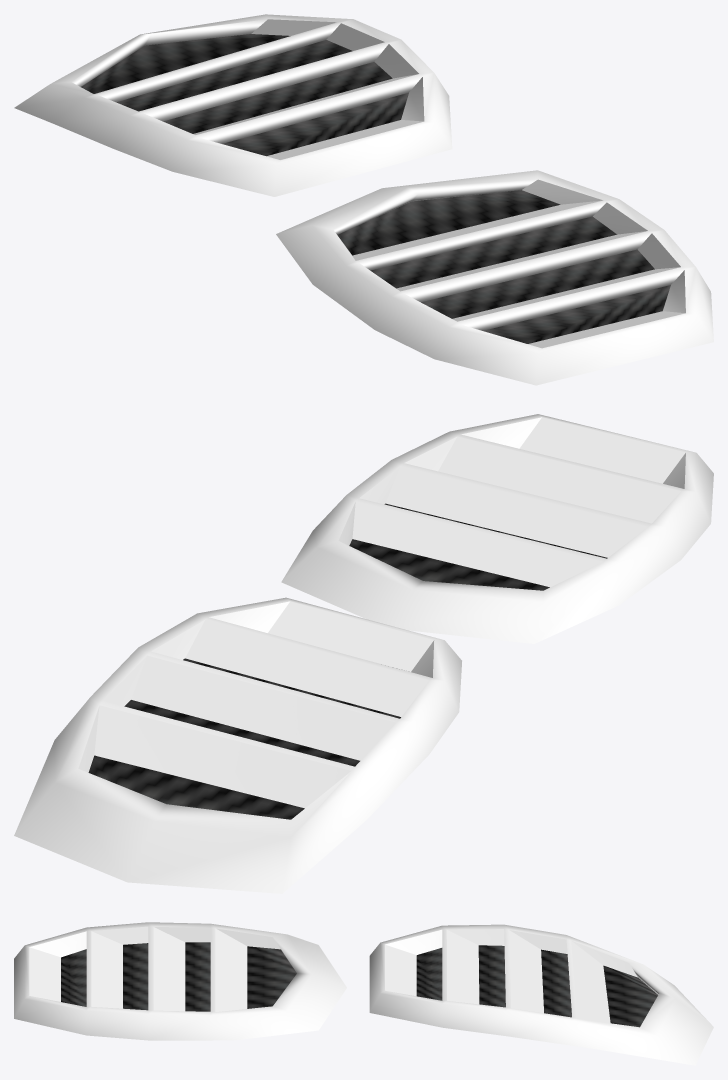
Rendered from bntl_b_ov.glb.
3 renders of one model, top to bottom at view 1: azimuth 30°, elevation 25°; view 2: azimuth 150°, elevation 25°; view 3: azimuth 270°, elevation 25°, orthographic. The views are drawn at different scales.
Visible parts, largest first — view 1: bntl_b_ov, bntl_b_ov_dam; view 2: bntl_b_ov_dam, bntl_b_ov; view 3: bntl_b_ov, bntl_b_ov_dam.
Boxes of the visible parts, left/top/right/bottom form: bntl_b_ov: left=276, top=170, right=713, bottom=385; bntl_b_ov_dam: left=14, top=14, right=452, bottom=196; bntl_b_ov_dam: left=14, top=597, right=461, bottom=893; bntl_b_ov: left=281, top=414, right=713, bottom=643; bntl_b_ov: left=14, top=922, right=346, bottom=1040; bntl_b_ov_dam: left=369, top=924, right=713, bottom=1065.
Bounding box in the file's own units: 0.3765 × 0.1112 × 1.06.
Materials: 2 (2 with a texture image).
